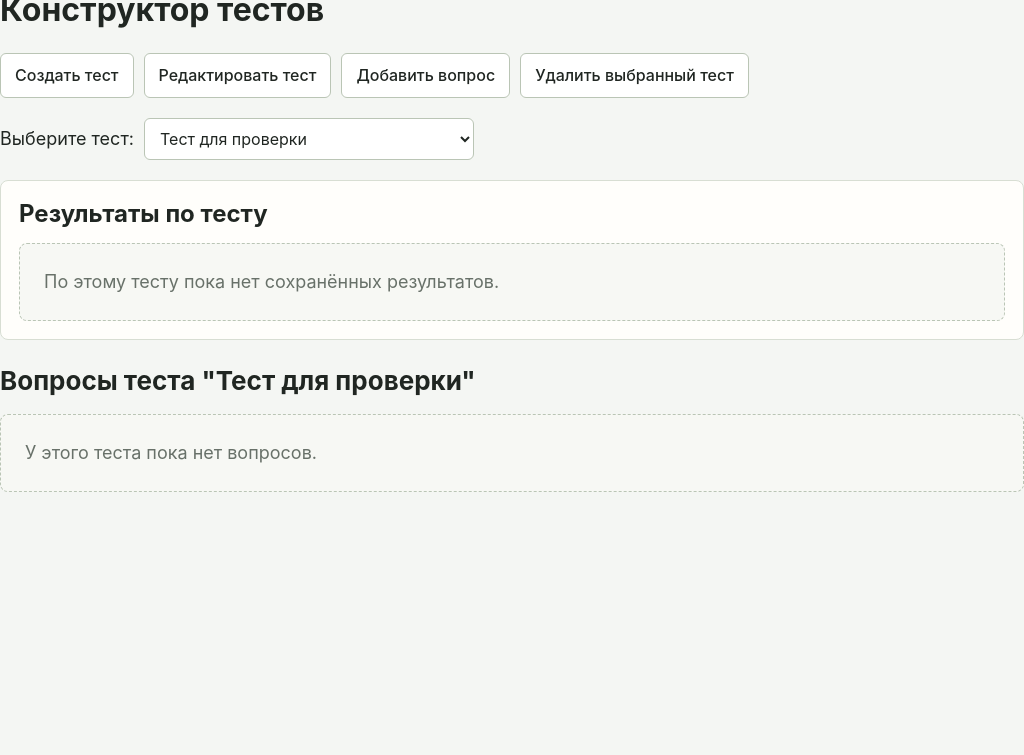
Test case: allows removing answer options in the question constructor
Click the button "Добавить вопрос".
click(426, 76)  # box [341,53,510,98]
(page scrolled)
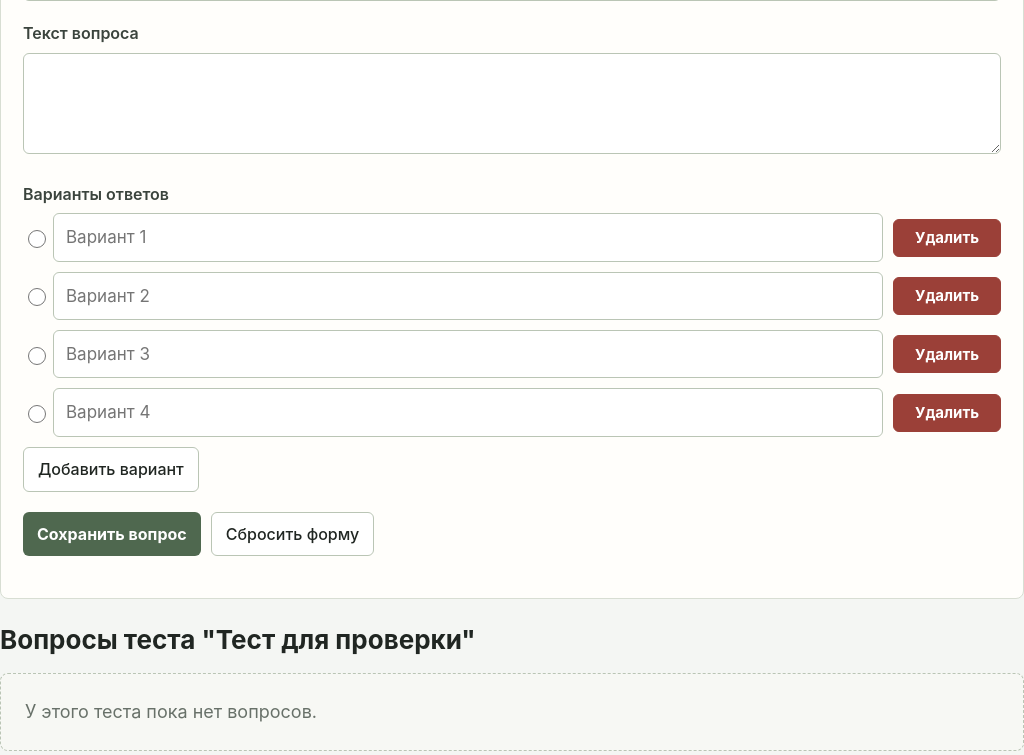
Now the number of fields is 4, box [53,213,883,262]; [53,272,883,320]; [53,330,883,378]; [53,388,883,437]
Now the number of buttons named "Удалить вариант" is 4, box [893,219,1001,257]; [893,277,1001,315]; [893,335,1001,373]; [893,394,1001,432]
Click the button "Добавить вариант".
click(111, 469)  # box [23,447,199,492]
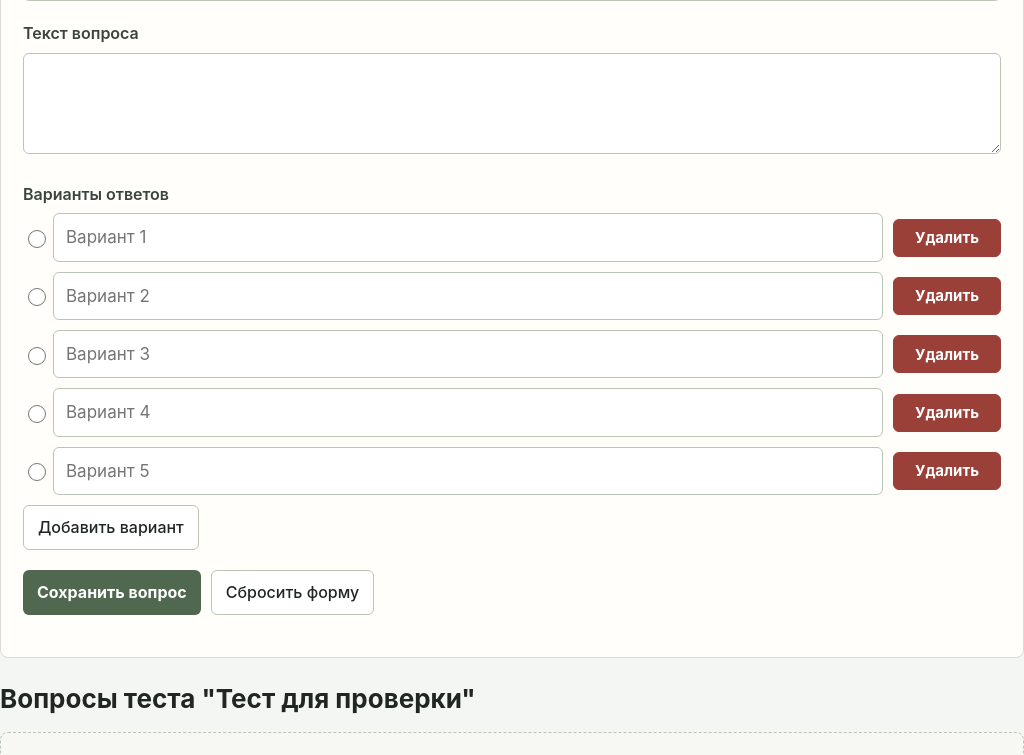
Now the number of fields is 5, box [53,213,883,262]; [53,272,883,320]; [53,330,883,378]; [53,388,883,437]; [53,447,883,495]
Now the number of buttons named "Удалить вариант" is 5
Click the button with aria-label "Удалить вариант".
click(947, 238)  # box [893,219,1001,257]
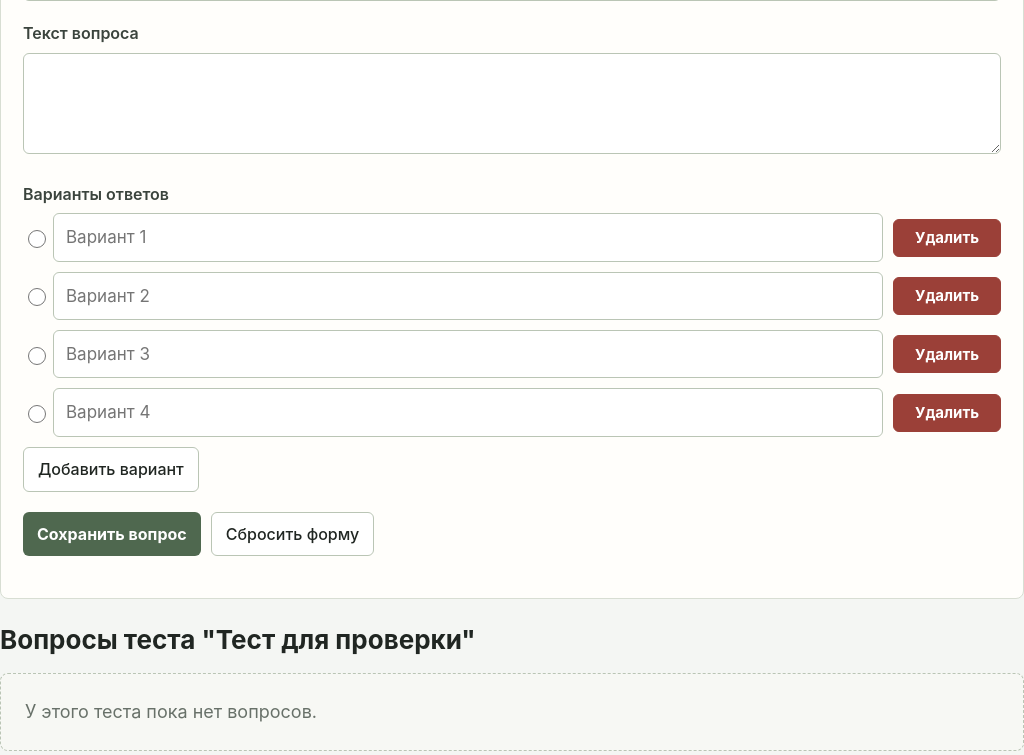
Click the button with aria-label "Удалить вариант".
click(947, 238)  # box [893,219,1001,257]
(page scrolled)
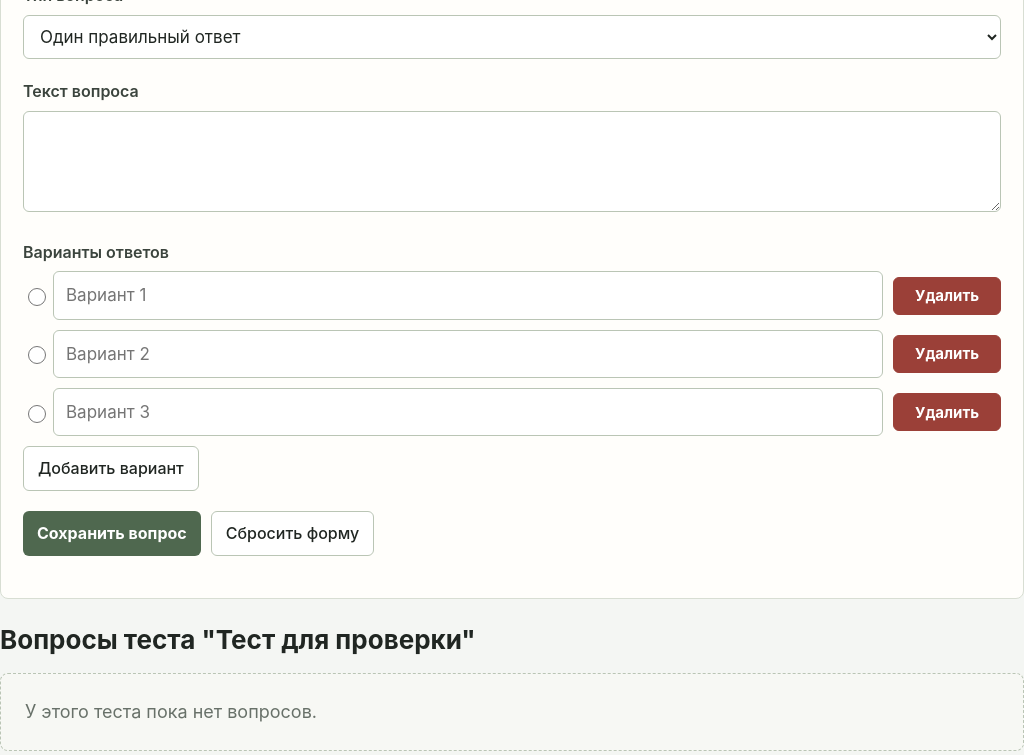
Click the button with aria-label "Удалить вариант".
click(947, 296)  # box [893,277,1001,315]
(page scrolled)
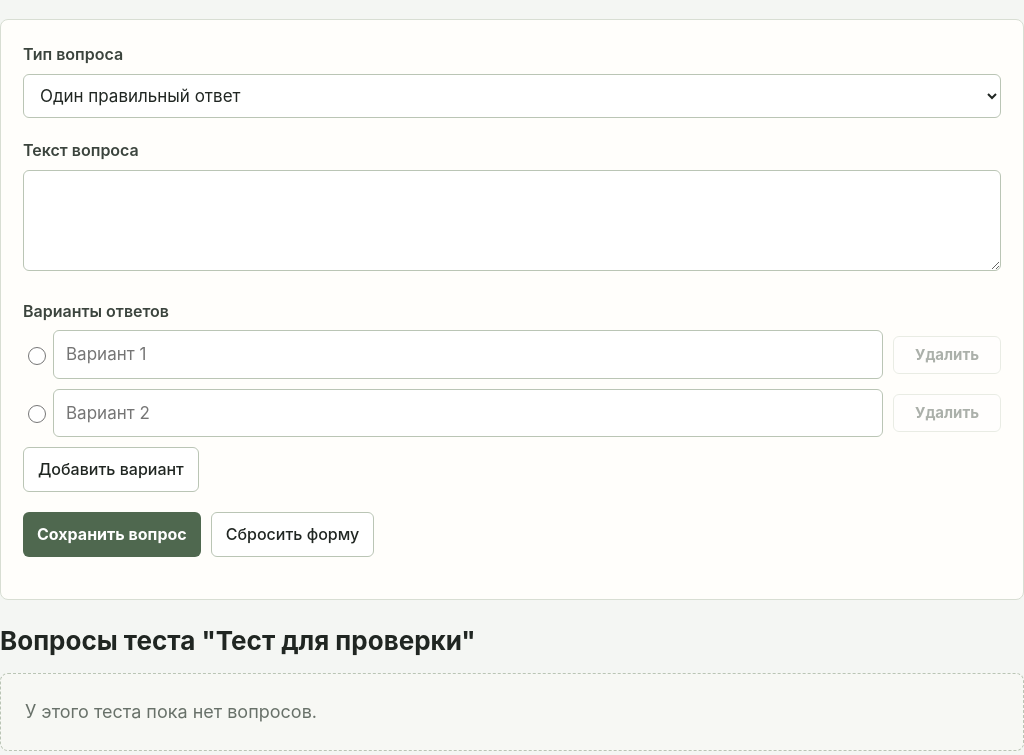
Now the number of fields is 2, box [53,330,883,379]; [53,389,883,437]
Now the number of buttons named "Удалить вариант" is 2, box [893,336,1001,374]; [893,394,1001,432]
Now the button with aria-label "Удалить вариант" is disabled, box [893,336,1001,374]
